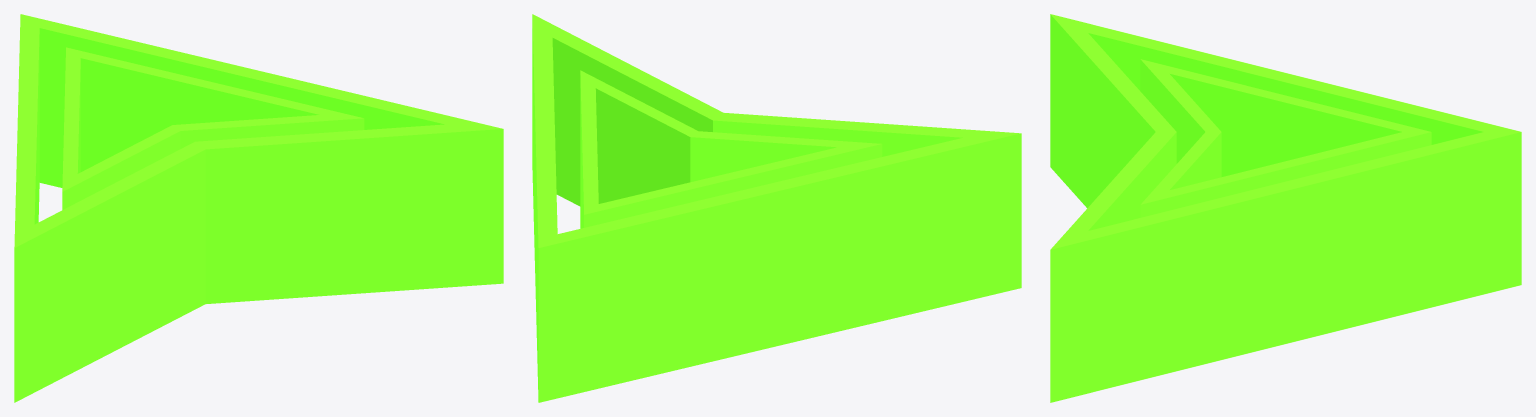
File: arrows.gltf
3 renders of one model, left to right at view 1: azimuth 30°, elevation 25°; view 2: azimuth 150°, elevation 25°; view 3: azimuth 270°, elevation 25°, orthographic.
Visible parts, largest first — view 1: object_1, object_2; view 2: object_1, object_2; view 3: object_1, object_2.
Part boxes in pixels (x1,y1,x2,y2): object_1: (14, 14, 503, 402); object_2: (62, 47, 364, 209); object_1: (532, 14, 1021, 402); object_2: (580, 70, 882, 228); object_1: (1050, 14, 1521, 402); object_2: (1140, 59, 1431, 217).
Bounding box in the file's own units: 1.17 × 0.3525 × 0.9847.
